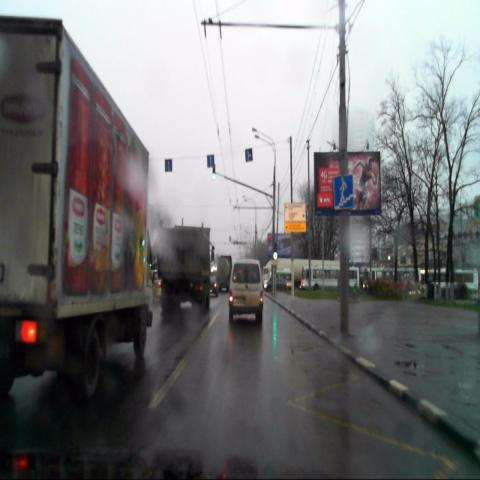6_6: (334, 174, 353, 210)
